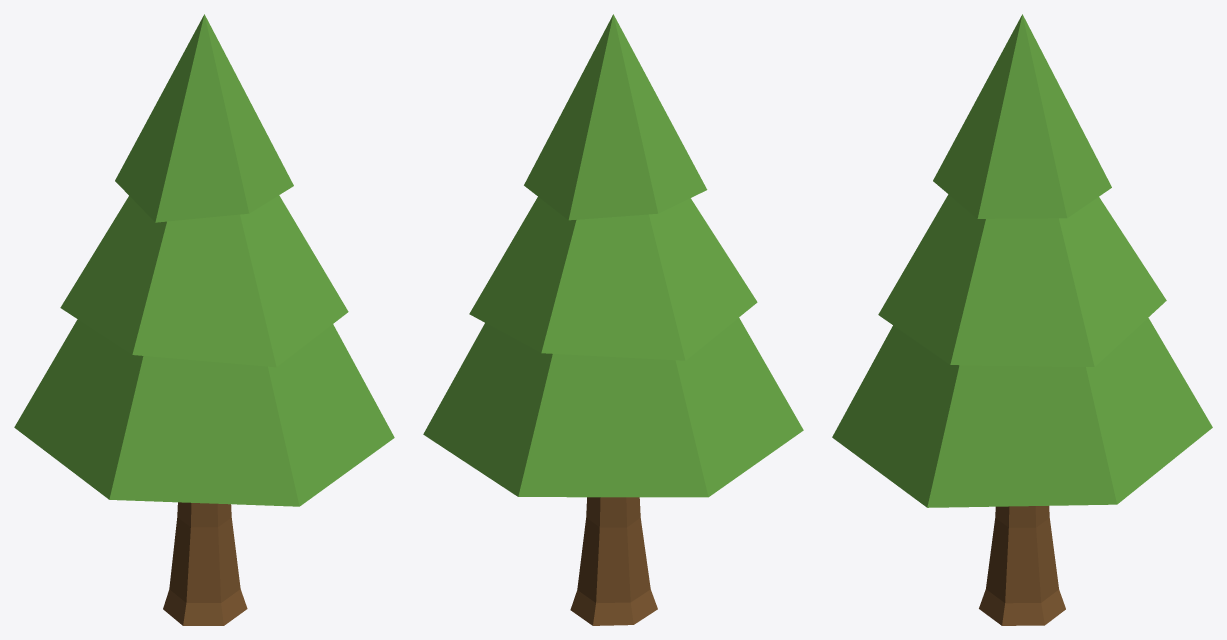
The model's file is pine_tree.glb.
3 views of the same model, side by side, from view 1: azimuth 30°, elevation 25°; view 2: azimuth 150°, elevation 25°; view 3: azimuth 270°, elevation 25° (orthographic).
Parts seen in each view (by area): view 1: Pine Tree; view 2: Pine Tree; view 3: Pine Tree.
Boxes of the visible parts, x1=… form: Pine Tree: x1=14, y1=14, x2=394, y2=625; Pine Tree: x1=423, y1=14, x2=803, y2=625; Pine Tree: x1=832, y1=14, x2=1212, y2=625.
Size of the model in its own units: 1.25 by 2.48 by 1.44.
